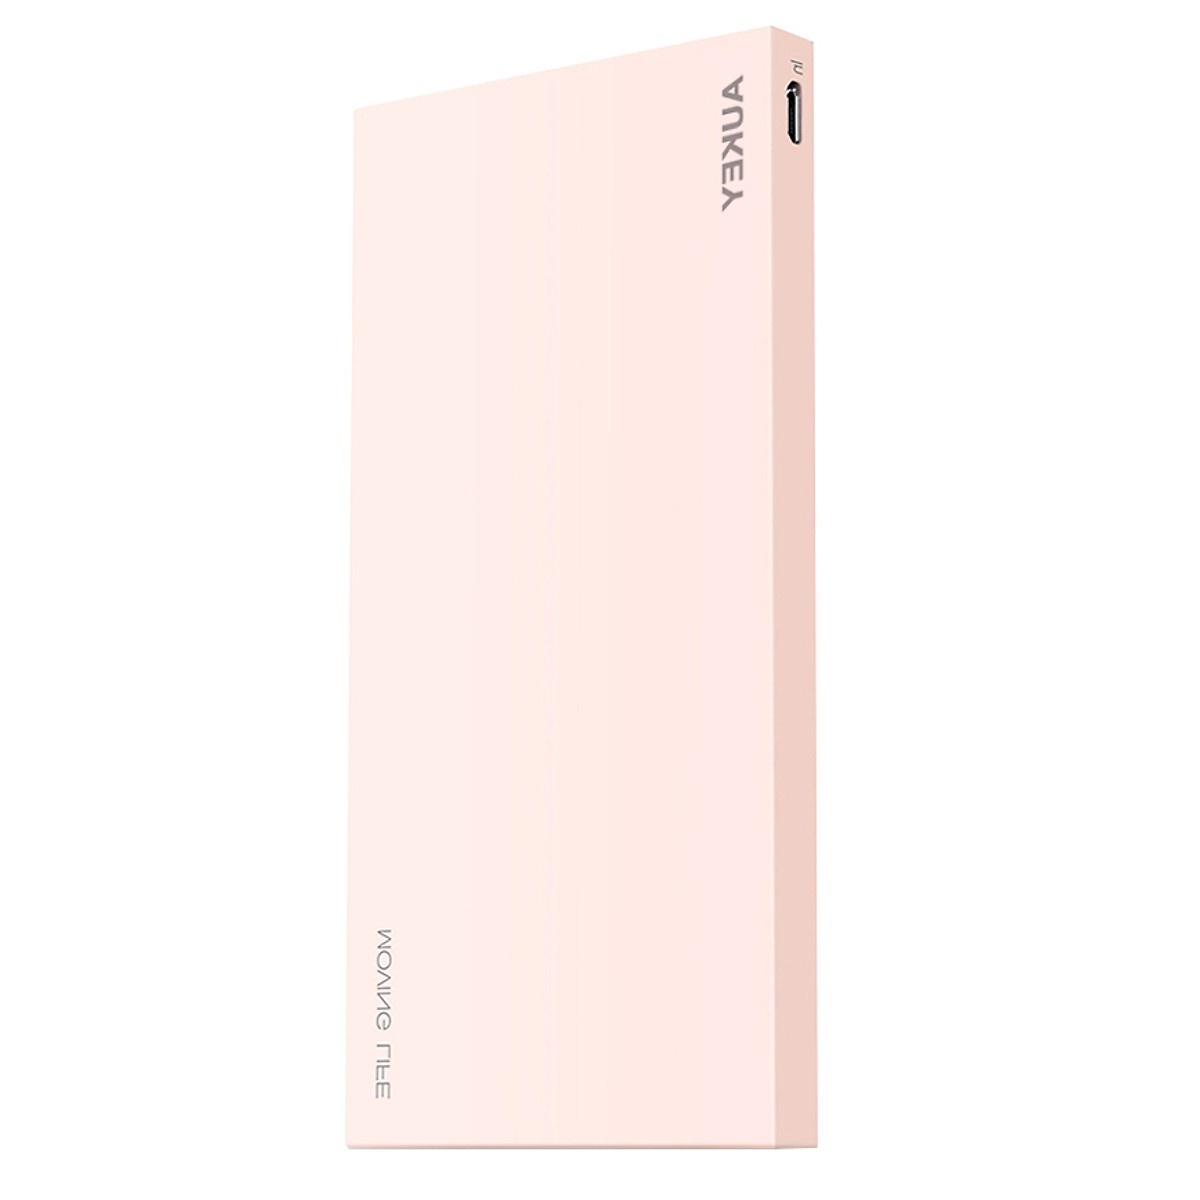Aukey: (616, 38, 837, 249)
